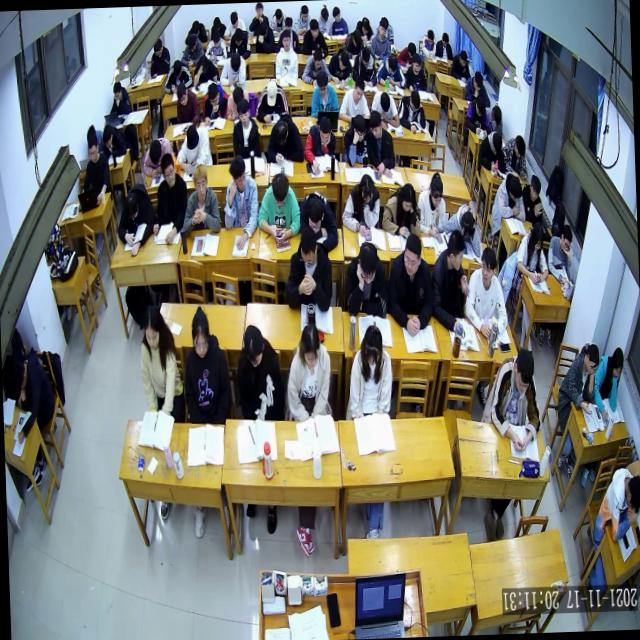bow: (115, 181, 156, 256), (298, 188, 339, 254), (378, 179, 422, 239), (443, 202, 482, 258), (264, 112, 304, 166), (491, 171, 526, 221), (141, 134, 176, 179), (255, 79, 290, 123), (476, 128, 506, 172), (369, 86, 400, 128), (300, 46, 332, 86), (374, 53, 406, 92), (520, 172, 544, 222), (162, 57, 194, 94), (327, 46, 352, 88), (100, 121, 128, 157), (218, 52, 246, 87), (192, 54, 219, 86), (342, 26, 364, 58), (397, 40, 418, 70), (421, 28, 436, 58)
down: (512, 348, 536, 396), (190, 308, 211, 361), (300, 322, 322, 371), (242, 323, 265, 368), (357, 240, 380, 284), (362, 323, 383, 368), (298, 224, 318, 269), (270, 170, 290, 209), (306, 195, 326, 232), (623, 472, 640, 511), (8, 357, 26, 392), (122, 192, 140, 224), (400, 182, 417, 215), (584, 342, 600, 377), (429, 175, 444, 208), (352, 114, 368, 144), (360, 172, 376, 202), (530, 220, 545, 252), (508, 174, 524, 204), (610, 344, 624, 378), (460, 209, 475, 239), (273, 118, 289, 146), (86, 132, 100, 162), (184, 123, 200, 149), (148, 138, 162, 166), (318, 116, 332, 144), (352, 76, 366, 102), (316, 70, 329, 98), (207, 82, 220, 108), (560, 224, 572, 252), (102, 124, 114, 150), (176, 82, 188, 108), (266, 80, 278, 106), (514, 134, 526, 160), (490, 130, 502, 155), (379, 90, 391, 114), (408, 90, 421, 112), (386, 54, 398, 76), (229, 52, 241, 73), (338, 49, 350, 70), (491, 105, 503, 126), (186, 34, 198, 54), (210, 29, 222, 49), (474, 96, 486, 116), (312, 49, 323, 70), (112, 80, 122, 102), (172, 58, 183, 78), (198, 54, 209, 74), (257, 20, 268, 40), (351, 28, 362, 48), (412, 52, 422, 74), (472, 70, 483, 90), (361, 47, 371, 68), (152, 38, 162, 58), (233, 27, 243, 47), (309, 18, 319, 38), (530, 270, 543, 284), (459, 48, 468, 68), (407, 39, 416, 57), (440, 31, 449, 47), (426, 29, 434, 46), (228, 76, 238, 88), (193, 84, 200, 92)
lookup: (402, 232, 424, 278), (142, 307, 162, 353), (192, 162, 210, 202), (479, 244, 497, 284), (160, 151, 177, 187), (236, 97, 250, 125), (529, 174, 542, 203), (280, 27, 292, 49), (378, 18, 388, 38)
sit: (480, 346, 542, 450), (180, 305, 232, 427), (138, 302, 185, 422), (384, 230, 435, 336), (233, 321, 283, 423), (284, 320, 332, 424), (6, 349, 56, 444), (282, 223, 334, 314), (427, 226, 471, 332), (347, 322, 393, 418), (462, 245, 508, 340), (222, 152, 261, 252), (590, 465, 640, 543), (148, 151, 188, 244), (554, 340, 602, 417), (342, 240, 388, 320), (255, 168, 301, 243), (181, 162, 221, 237), (339, 170, 382, 239), (592, 343, 626, 421), (514, 220, 550, 286), (302, 116, 338, 178), (80, 133, 110, 205), (366, 109, 396, 180), (416, 173, 447, 240), (174, 123, 213, 176), (230, 95, 260, 159), (545, 221, 575, 283), (336, 74, 371, 123), (340, 111, 370, 166), (310, 66, 340, 118), (396, 88, 426, 134), (272, 26, 298, 79), (201, 80, 230, 126), (503, 132, 528, 182), (174, 80, 200, 128), (350, 45, 377, 88), (464, 96, 491, 138), (300, 16, 328, 56), (463, 68, 490, 107), (404, 51, 428, 94), (226, 24, 252, 60), (369, 18, 391, 60), (224, 85, 250, 120), (148, 37, 170, 77), (179, 31, 204, 66), (109, 80, 132, 116), (205, 28, 228, 63), (448, 48, 471, 81), (254, 20, 276, 54), (434, 31, 454, 61), (486, 102, 504, 134), (331, 3, 348, 35)
